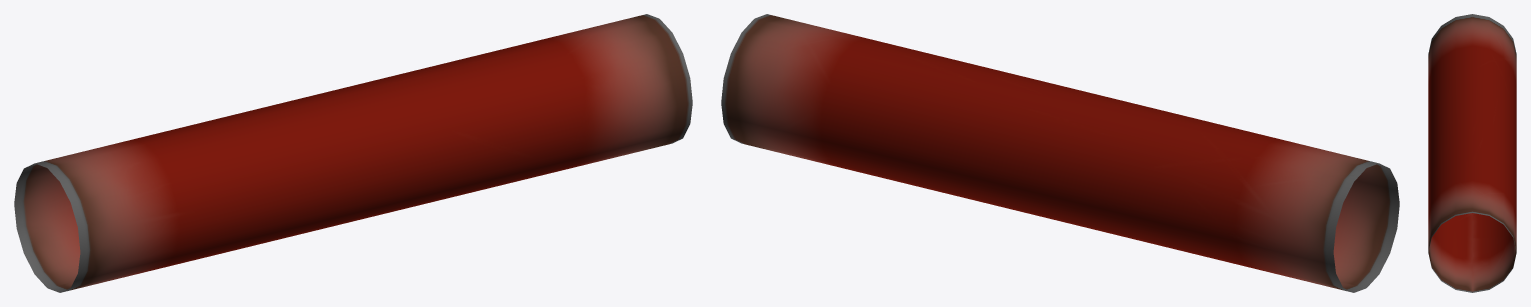
File: pipe01_str_64a.fbx
The picture shows the model from 3 angles, left to right: view 1: azimuth 30°, elevation 25°; view 2: azimuth 150°, elevation 25°; view 3: azimuth 270°, elevation 25°; orthographic projection. The views are drawn at different scales.
Visible parts, largest first — view 1: pipe01_str_64a; view 2: pipe01_str_64a; view 3: pipe01_str_64a.
Boxes of the visible parts, bbox=[...] form: pipe01_str_64a: bbox=[14, 14, 692, 292]; pipe01_str_64a: bbox=[721, 14, 1399, 292]; pipe01_str_64a: bbox=[1428, 14, 1516, 292].
Bounding box in the file's own units: 64 × 12 × 12.
